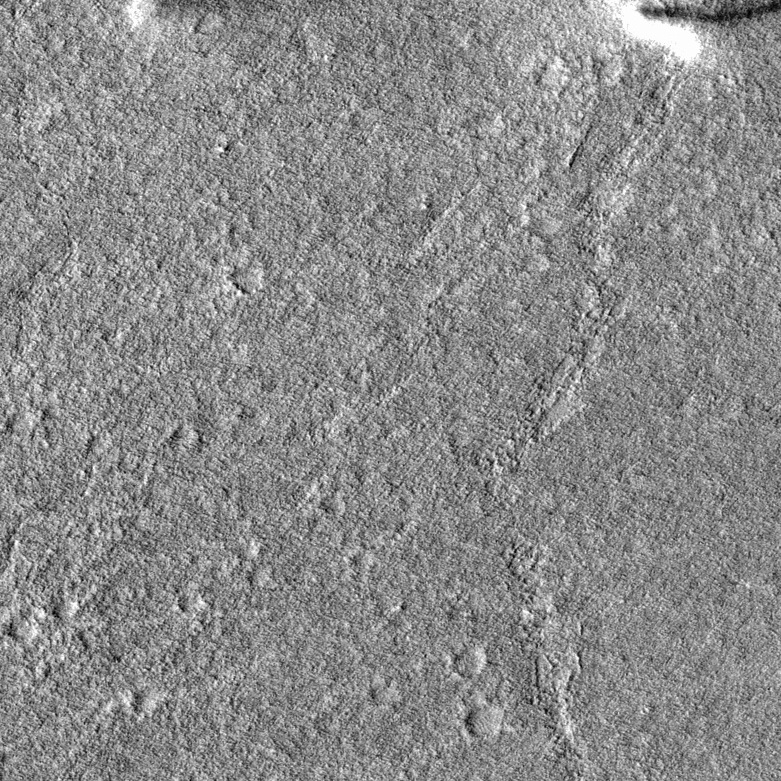dust_devil: (617, 1, 781, 65), (121, 1, 265, 33)
